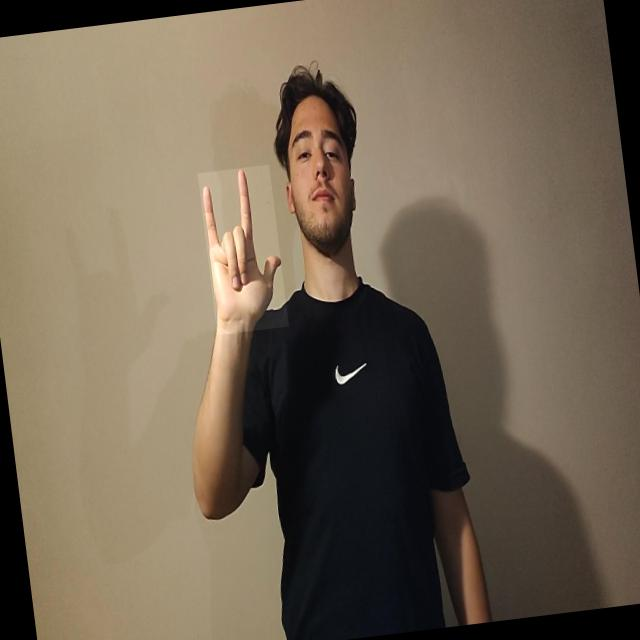iloveyou: (198, 164, 289, 335)
